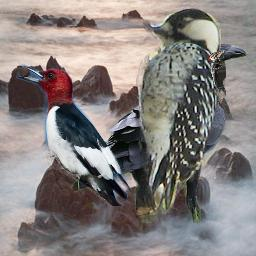Crow: (59, 40, 247, 223)
Woodpecker: (136, 7, 221, 215), (16, 62, 134, 206), (207, 50, 226, 100)
